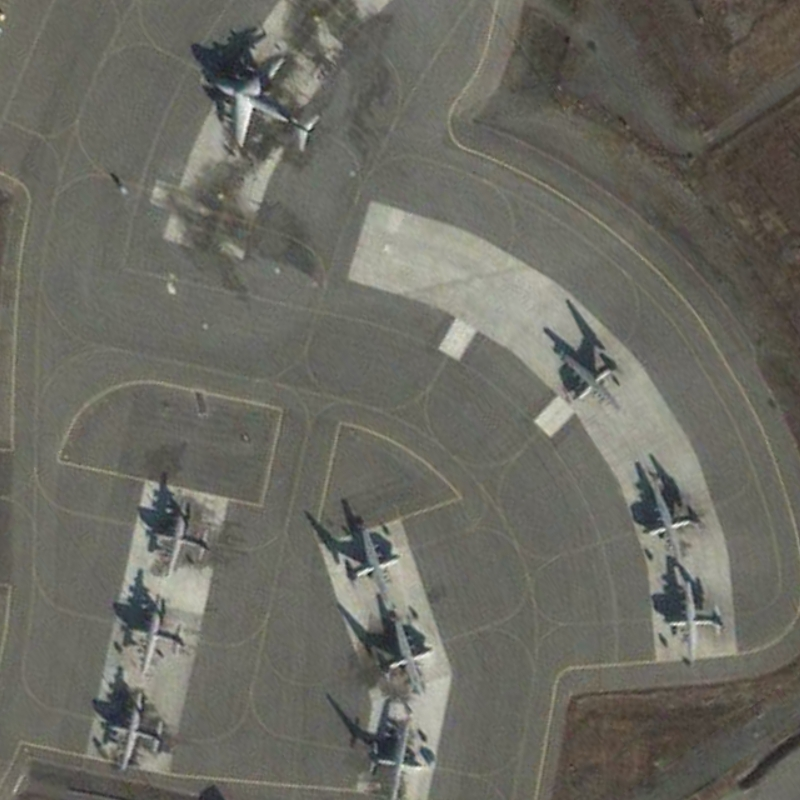A2: (652, 572, 730, 672), (635, 470, 709, 572), (368, 611, 441, 703), (551, 335, 633, 415), (146, 493, 214, 580), (103, 684, 165, 776), (124, 590, 189, 677), (340, 522, 405, 607), (363, 713, 426, 800)
A3: (195, 50, 327, 159)
